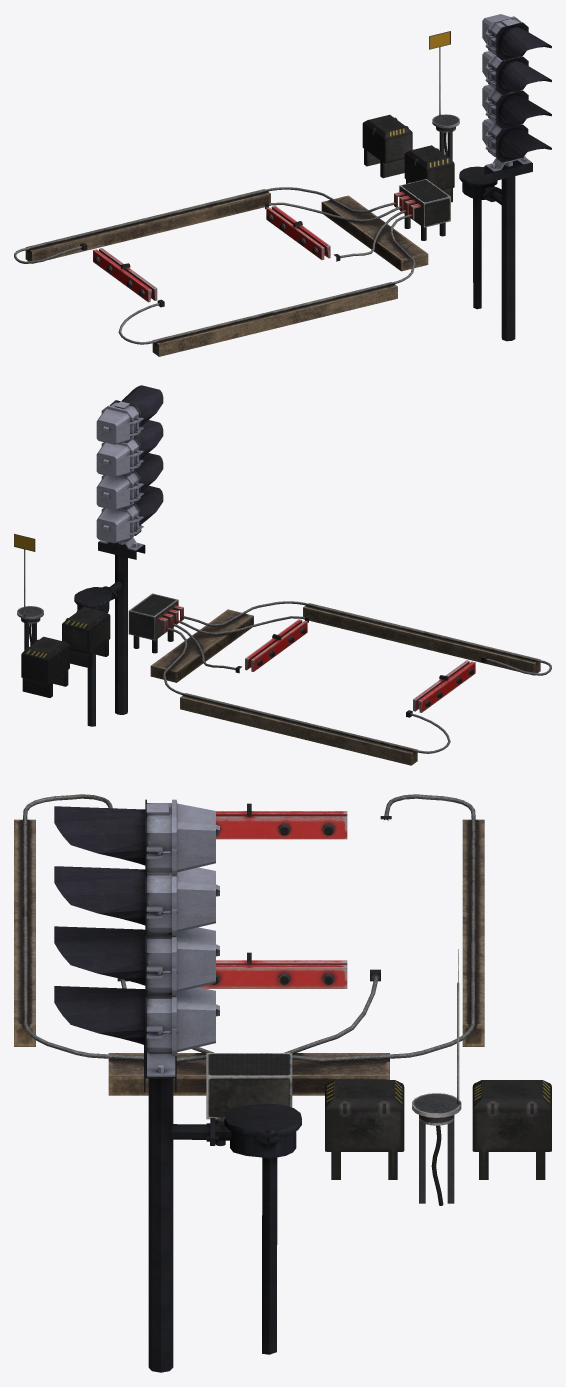
Rendered from RM_sig_KM1_4_exit.gltf.
3 views of the same model, one above another, from view 1: azimuth 30°, elevation 25°; view 2: azimuth 150°, elevation 25°; view 3: azimuth 270°, elevation 25° (orthographic). The views are drawn at different scales.
Visible parts, largest first — view 1: Изостык, Object_2, Object_1, Object_3; view 2: Изостык, Object_2, Object_1, Object_3; view 3: Изостык, Object_2, Object_1, Object_3.
Part boxes in pixels (left/top/right/bottom): Изостык: left=14, top=31, right=459, bottom=356; Object_2: left=482, top=14, right=551, bottom=171; Object_1: left=482, top=160, right=532, bottom=341; Object_3: left=459, top=166, right=497, bottom=309; Изостык: left=14, top=533, right=551, bottom=765; Object_2: left=96, top=385, right=163, bottom=550; Object_1: left=98, top=541, right=145, bottom=714; Object_3: left=74, top=587, right=112, bottom=726; Изостык: left=14, top=794, right=551, bottom=1205; Object_2: left=54, top=799, right=219, bottom=1076; Object_1: left=144, top=1045, right=218, bottom=1372; Object_3: left=215, top=1103, right=301, bottom=1354.
Bounding box in the file's own units: 4.06 × 2.79 × 2.43.
Materials: 6 (4 with a texture image).
